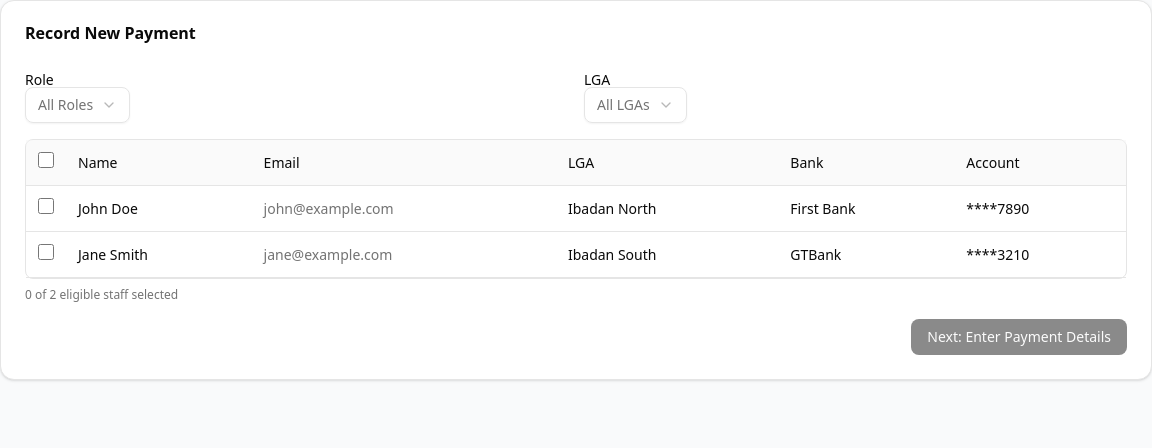
Scenario: BulkRecordingForm › proceeds to step 3 review when form is valid
Note: select staff
Click the checkbox named "Select John Doe". click: (46, 206)
box: [38,198,54,214]
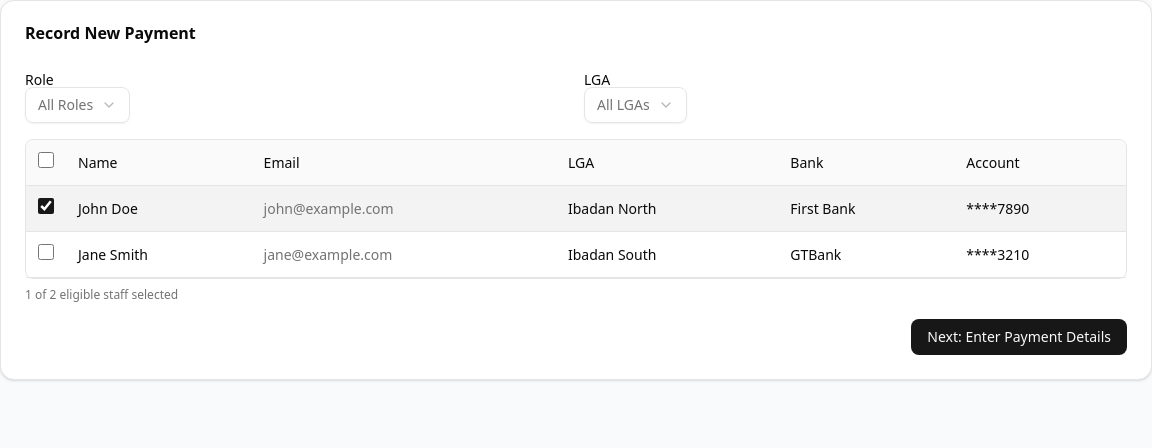
Click the checkbox named "Select Jane Smith". click: (46, 252)
box: [38,244,54,260]
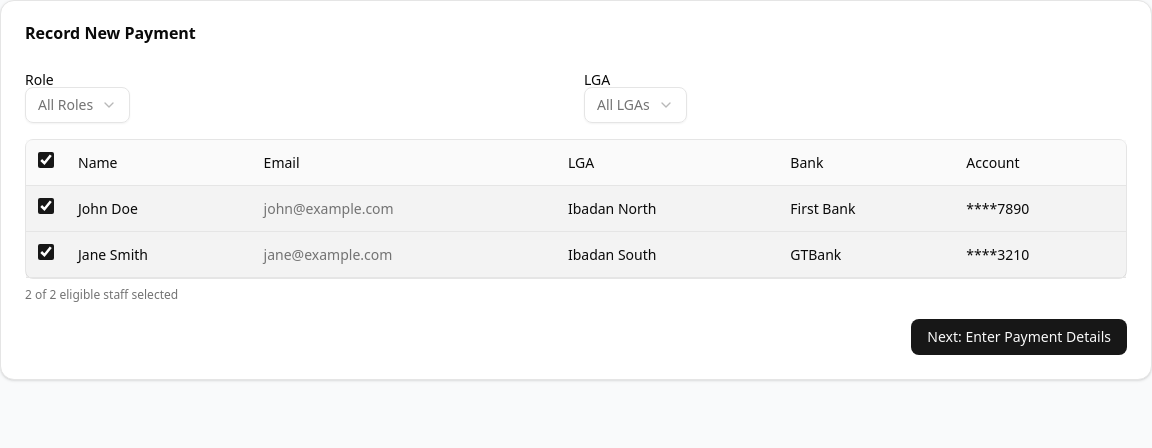
Click the button with test id "proceed-to-step-2". click: (1019, 337)
box: [911,319,1127,355]
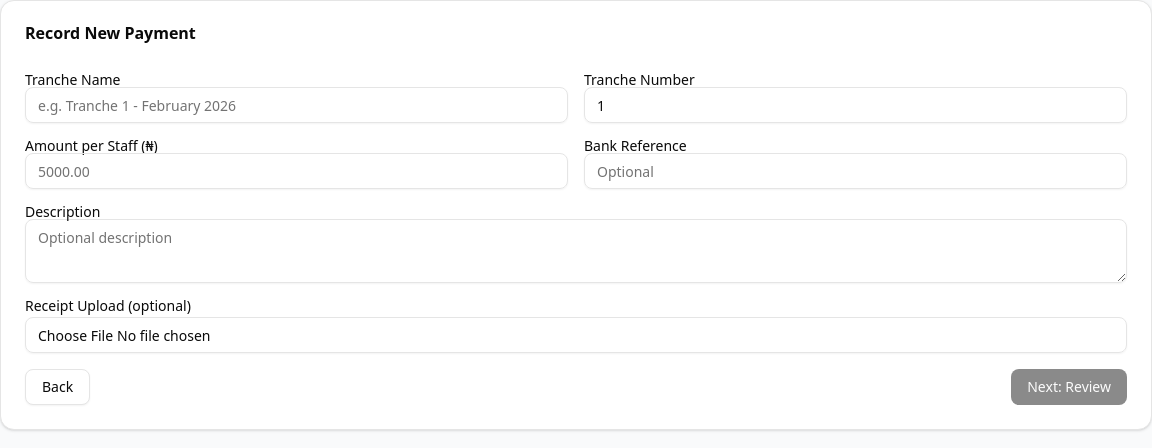
Note: fill in batch details
Type "Feb Tranche" into the field with test id "tranche-name". click: (296, 105)
box: [25,87,568,123]
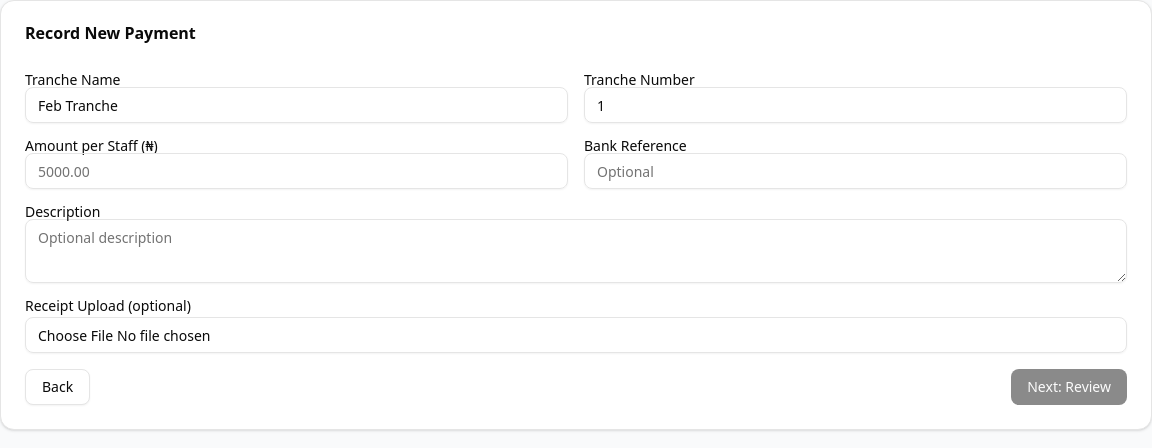
Type "5000" into the number field with test id "amount-input". click: (296, 171)
box: [25,153,568,189]
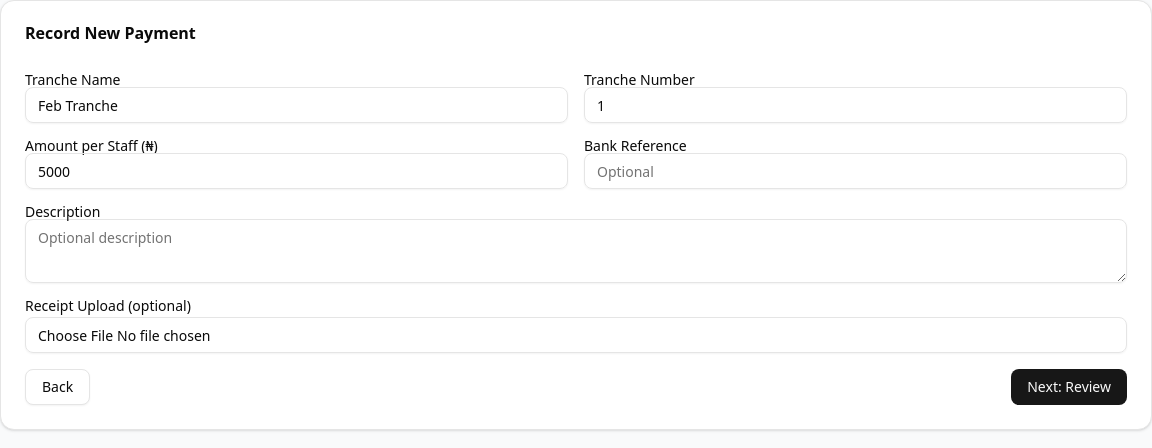
Click the button with test id "proceed-to-step-3". click: (1069, 387)
box: [1011,369,1127,405]
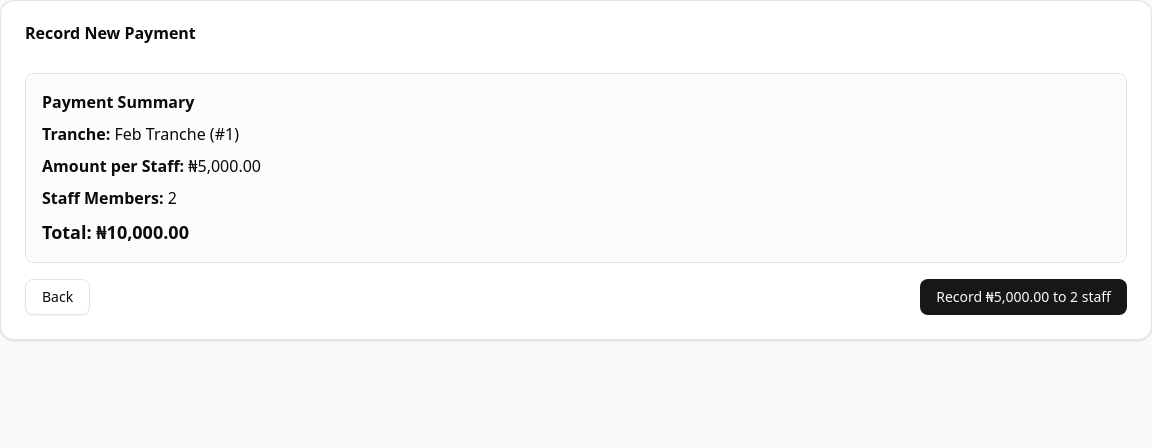
Check: the element with test id "step-3" is shown, box [25,73,1127,315]
Check: the text "Tranche: Feb Tranche (#1)" is shown, box [42,123,239,145]
Check: the element with test id "staff-count" shows "2", box [168,187,177,209]
